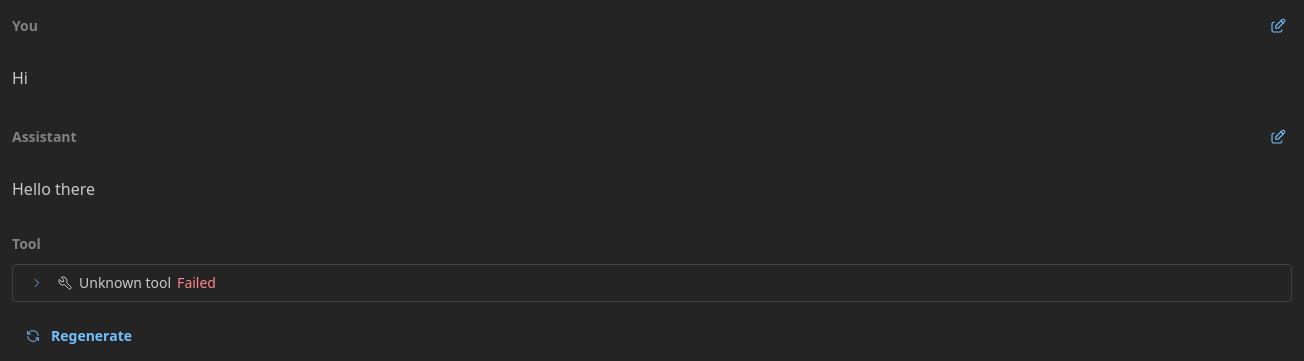
ZoneList — in-place edit (D10) › after a successful PATCH the item shows the text the server served — DoD-3
This screenshot has width=1304, height=361.
Click the button named "Edit message" in the row of "Assistant": x=1278, y=137 [1264,123,1292,151]
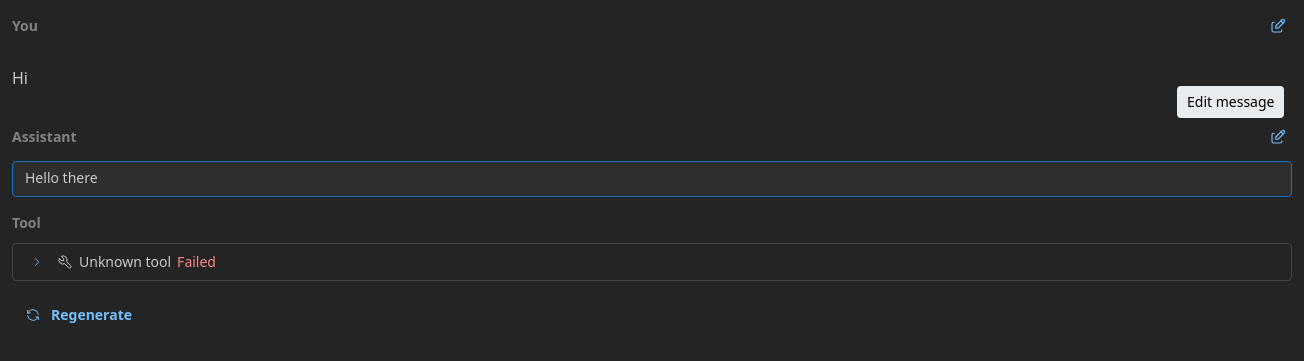
Replace the text in the text box named "Edit message text" with "Hello, friend": x=652, y=179 [12,161,1292,197]
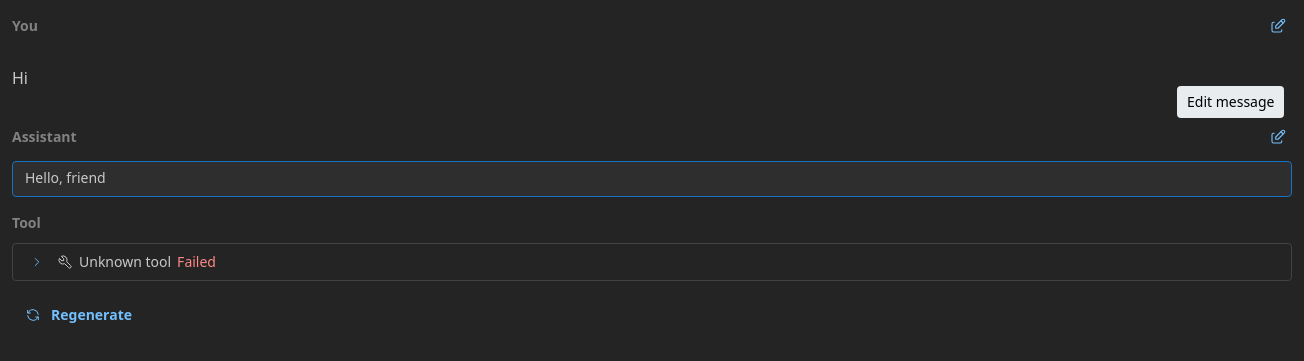
Leave the text box named "Edit message text", box [12,161,1292,197]
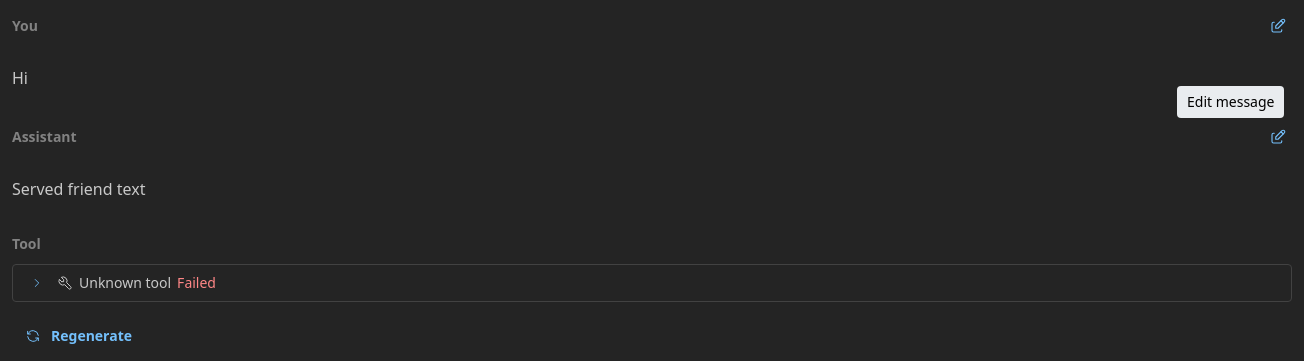
Check: the list item "Assistant Served friend text" is shown, box [12,123,1292,218]
